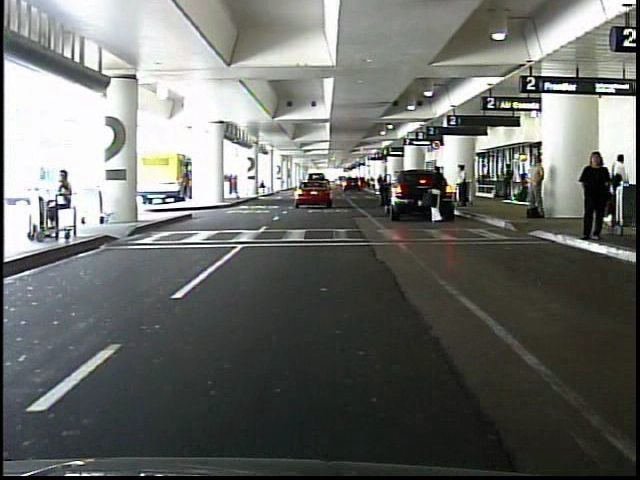person: (577, 148, 613, 246), (28, 165, 75, 240), (604, 153, 628, 215), (429, 164, 446, 224), (454, 165, 469, 210), (502, 162, 515, 201)
